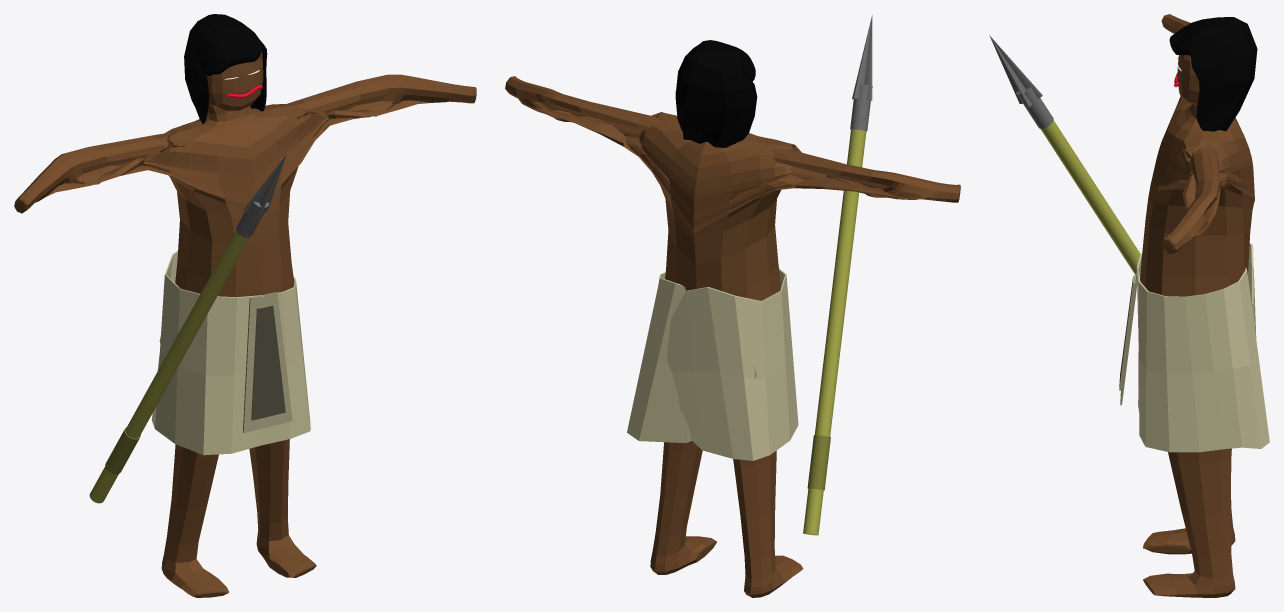
File: postava_kopí_starověk.fbx
3 renders of one model, left to right at view 1: azimuth 30°, elevation 25°; view 2: azimuth 150°, elevation 25°; view 3: azimuth 270°, elevation 25°, orthographic. The views are drawn at different scales.
Visible parts, largest first — view 1: Cube, Plane, Cylinder.002, Plane.001, Plane.002; view 2: Cube, Plane, Cylinder.002, Plane.002; view 3: Cube, Plane, Plane.002, Cylinder.002, Plane.001.
Part boxes in pixels (<box>): Cube: <box>14,52,476,597</box>; Plane: <box>152,250,310,455</box>; Cylinder.002: <box>89,154,286,503</box>; Plane.001: <box>243,292,292,432</box>; Plane.002: <box>184,14,267,124</box>; Cube: <box>505,76,960,597</box>; Plane: <box>627,268,798,460</box>; Cylinder.002: <box>803,15,872,535</box>; Plane.002: <box>675,40,757,147</box>; Cube: <box>1140,14,1254,597</box>; Plane: <box>1136,243,1269,452</box>; Plane.002: <box>1169,17,1257,131</box>; Cylinder.002: <box>989,35,1140,274</box>; Plane.001: <box>1119,262,1138,405</box>.
Bounding box in the file's own units: 302 × 343 × 158.
